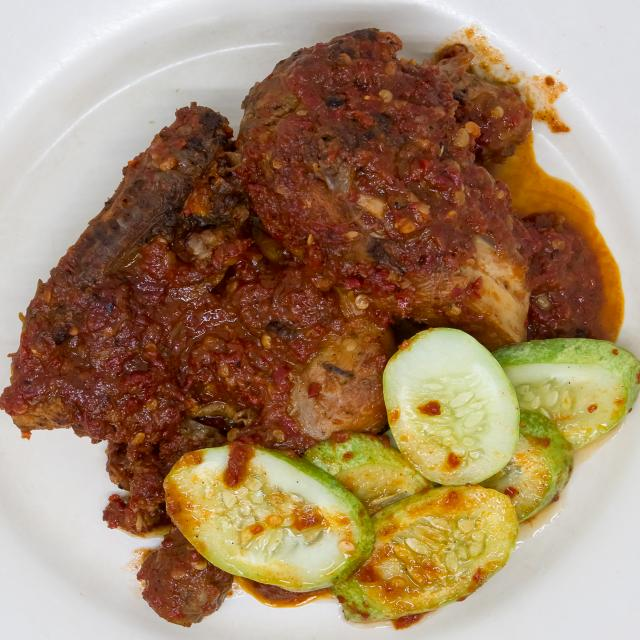Ayam-Bumbu-Rujak: (14, 18, 616, 632)
